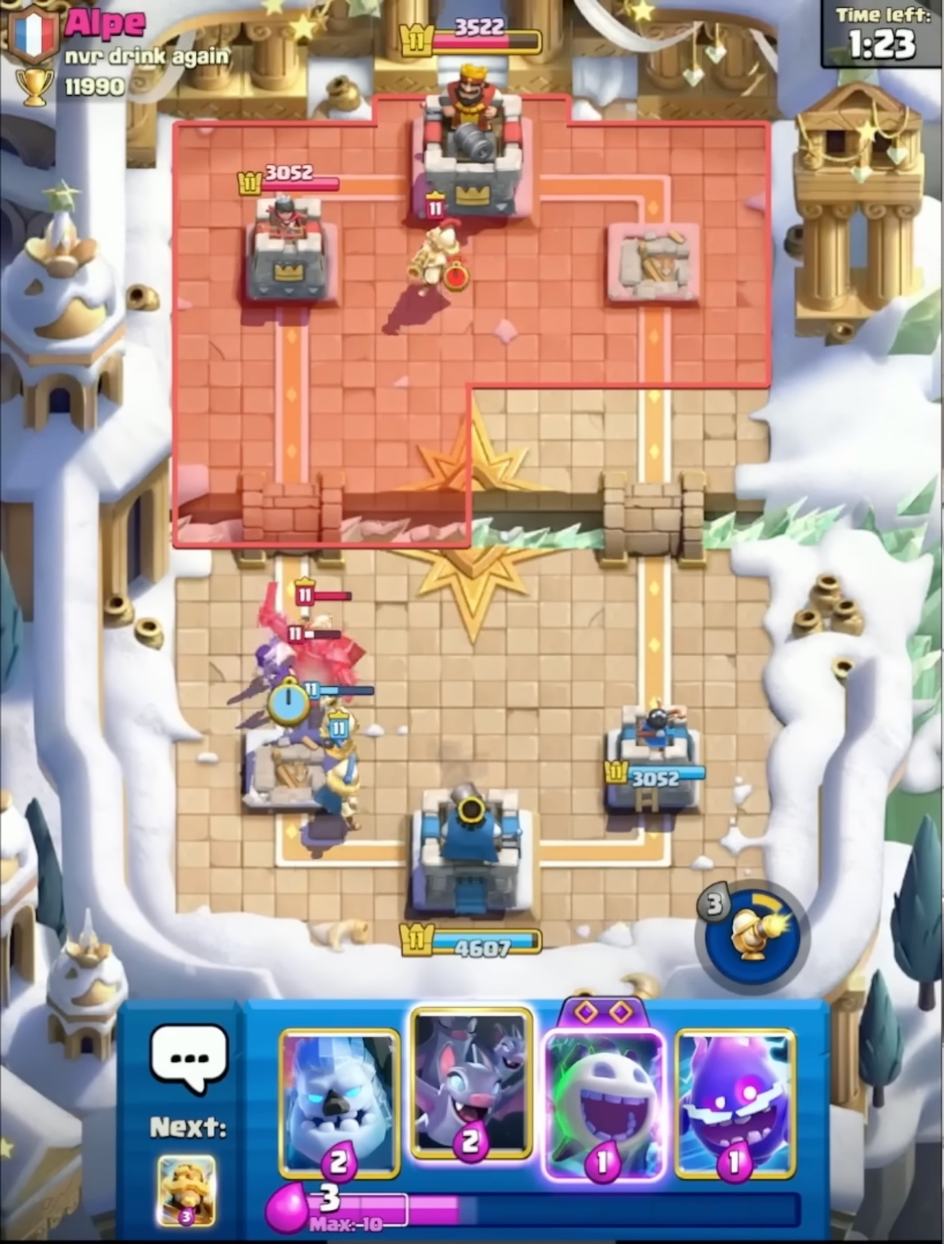hero-musketeer: (409, 185, 477, 321)
